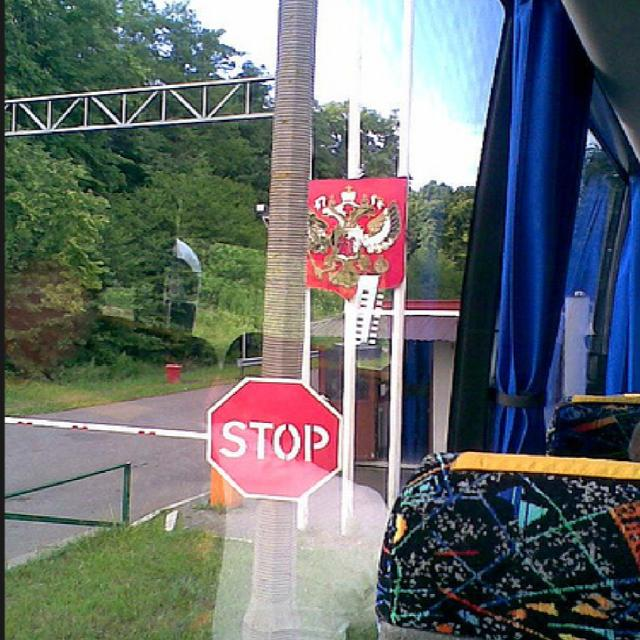STOP: (196, 371, 347, 508)
